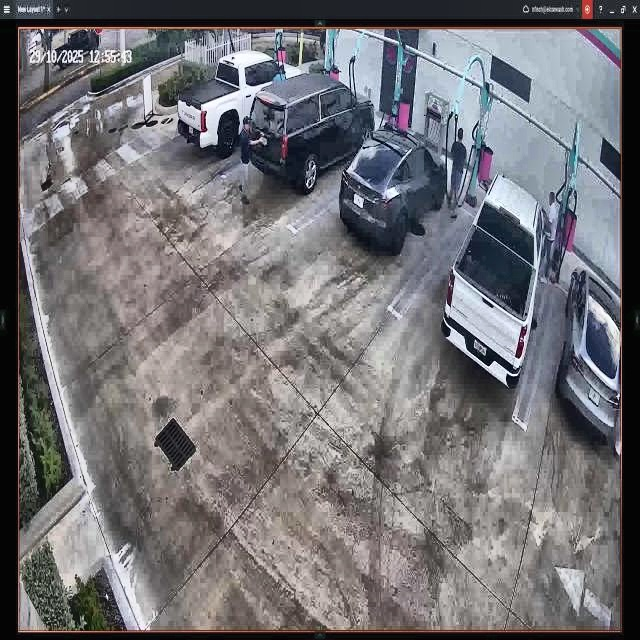Car: (442, 176, 553, 390), (247, 76, 373, 192), (178, 49, 307, 158), (341, 130, 446, 252)
